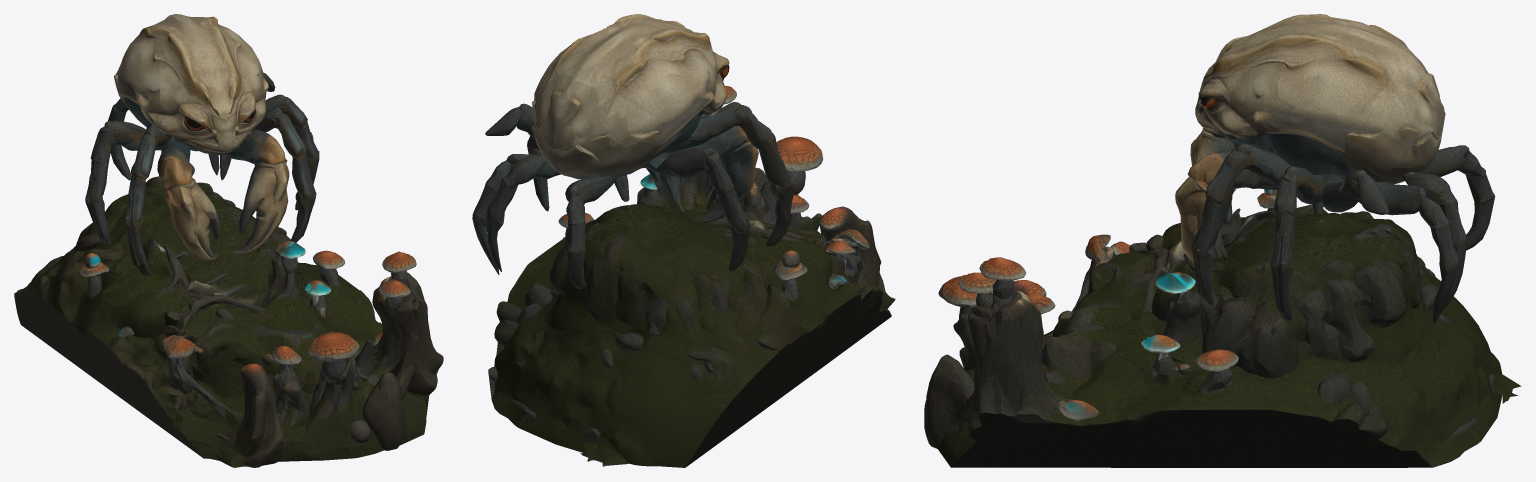
Rendered from morgath.glb.
3 views of the same model, side by side, from view 1: azimuth 30°, elevation 25°; view 2: azimuth 150°, elevation 25°; view 3: azimuth 270°, elevation 25° (orthographic). The views are drawn at different scales.
Size of the model in its own units: 1.17 by 1.37 by 1.89.
Materials: 1 (1 with a texture image).
